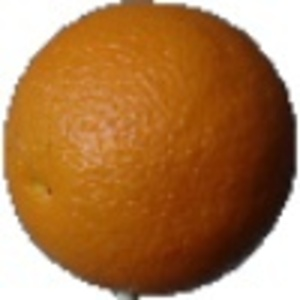laranja: (3, 5, 293, 293)
